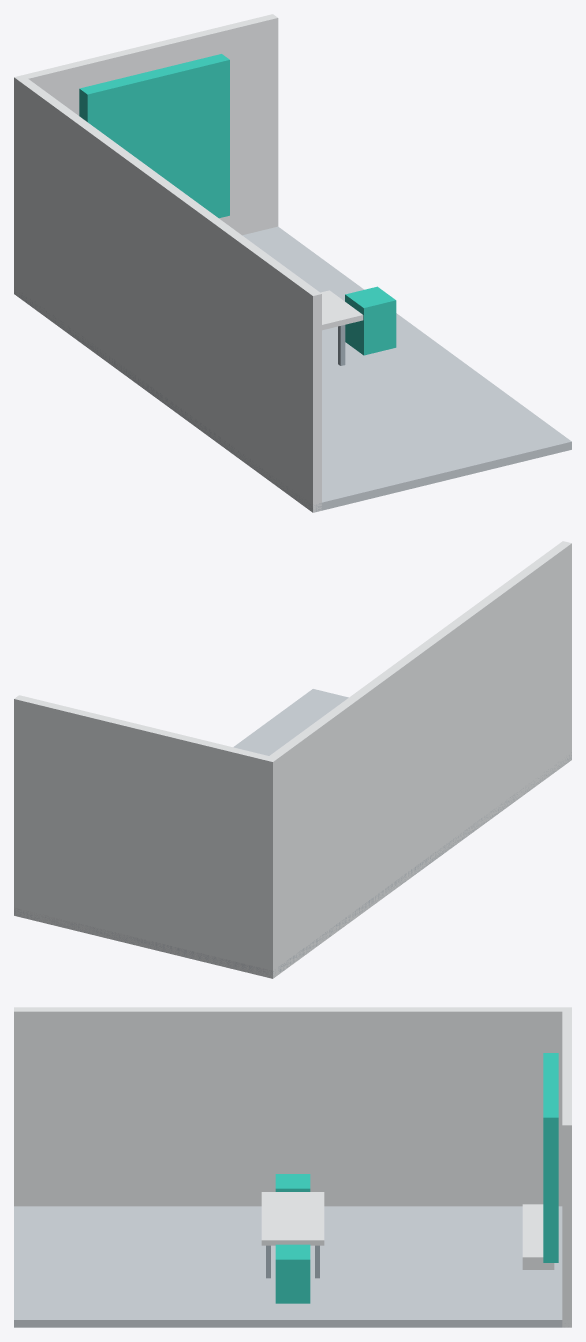
3 renders of one model, top to bottom at view 1: azimuth 30°, elevation 25°; view 2: azimuth 150°, elevation 25°; view 3: azimuth 270°, elevation 25°, orthographic. The views are drawn at different scales.
Parts seen in each view (by area): view 1: Exhibition Booth Concept; view 2: Exhibition Booth Concept; view 3: Exhibition Booth Concept.
Boxes of the visible parts, x1=… form: Exhibition Booth Concept: x1=14, y1=14, x2=571, y2=512; Exhibition Booth Concept: x1=14, y1=541, x2=571, y2=978; Exhibition Booth Concept: x1=14, y1=1007, x2=571, y2=1327.
Bounding box in the file's own units: 4 × 3.2 × 8.
